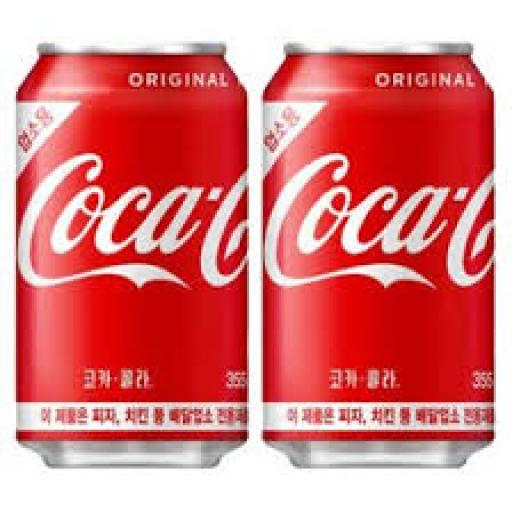Coca: (257, 26, 500, 479), (8, 32, 255, 474)
